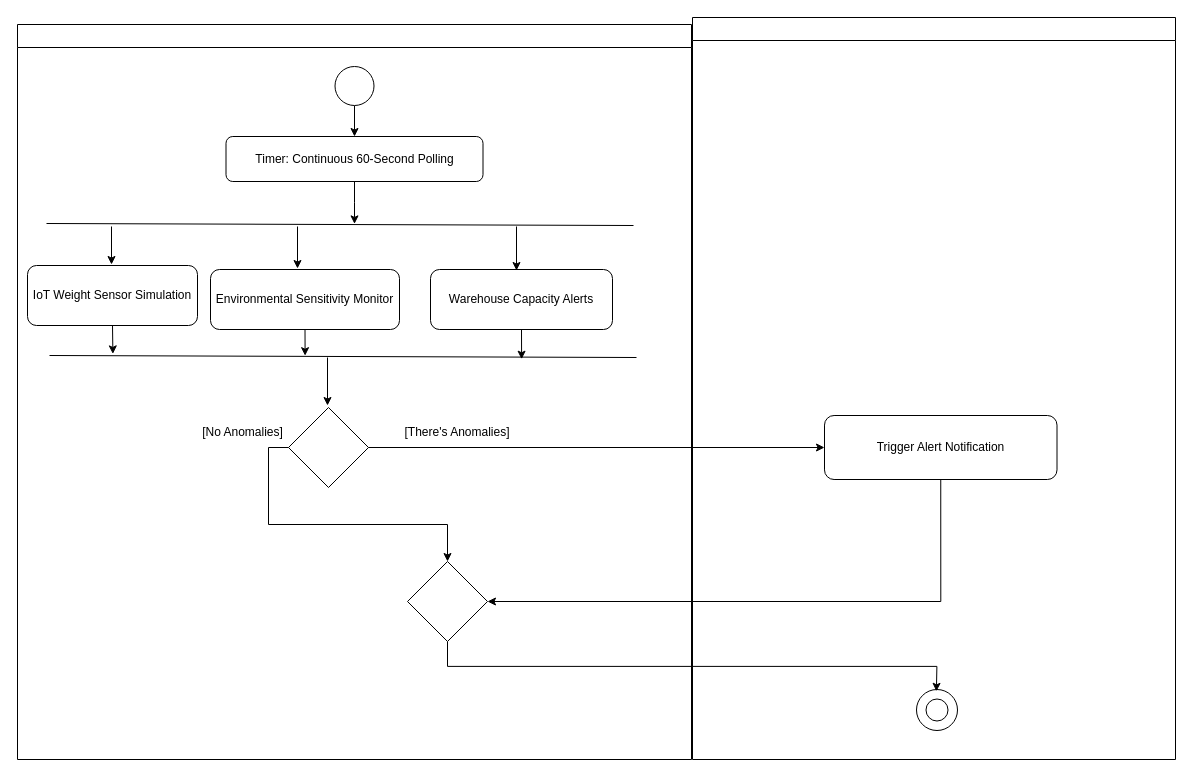
This 1193x777 diagram has some shape labels left out. Each missing label, with the box of its shape:
IoT Subsystem: (16, 24, 692, 760)
Manager Dashboard: (692, 16, 1176, 760)
